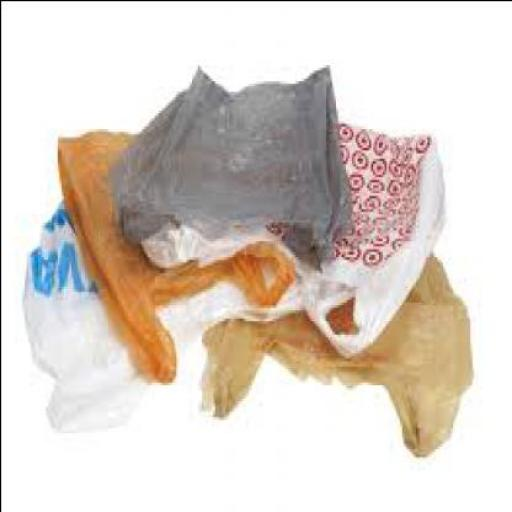plastic: (58, 128, 296, 379), (202, 248, 474, 451), (214, 120, 444, 353), (111, 58, 357, 262), (23, 190, 189, 424)
